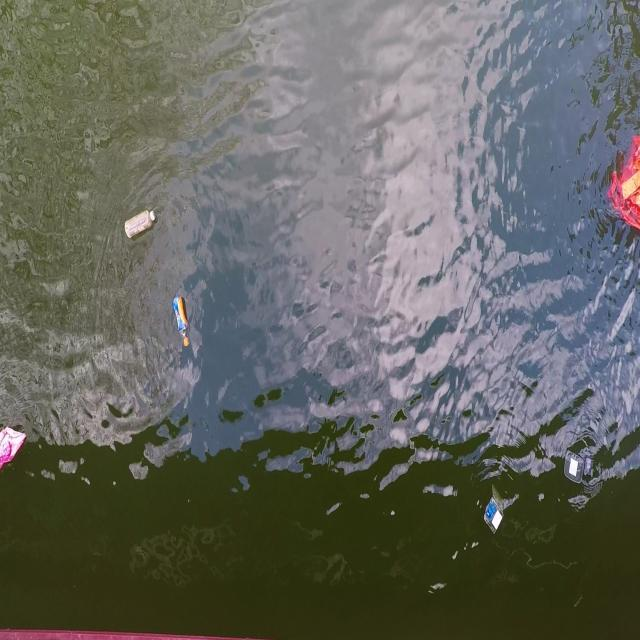Autre plastique: (560, 445, 589, 492)
Bouteille plastique: (122, 202, 159, 243), (172, 290, 193, 352)
